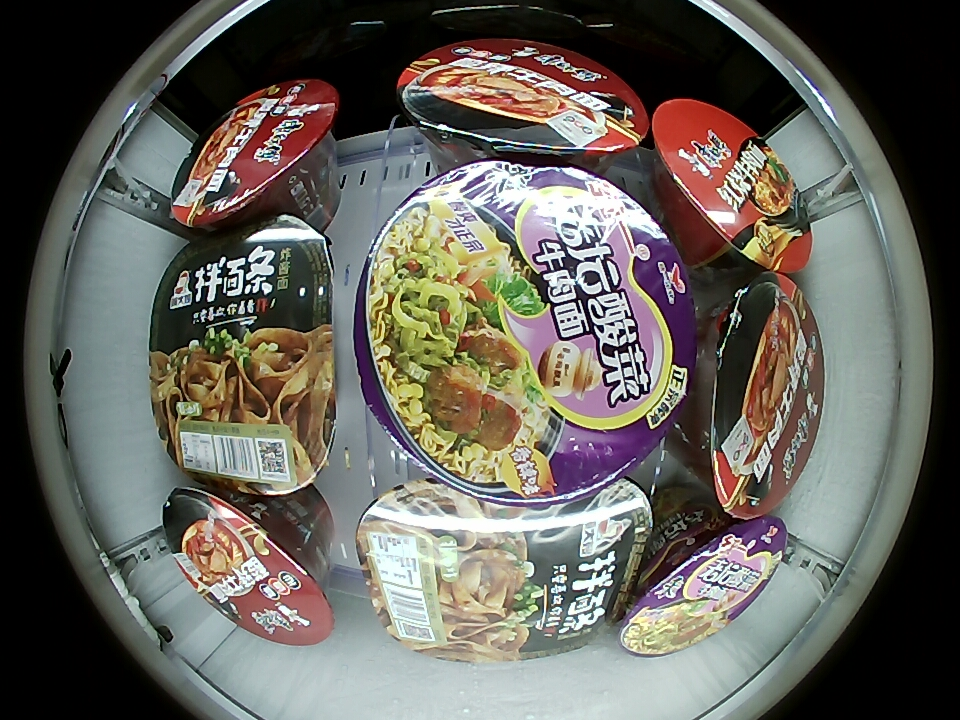gudasao: (354, 477, 654, 663), (147, 220, 336, 493)
hongshaoniurou: (650, 97, 812, 275)
laotansuancai: (351, 158, 698, 502), (616, 512, 788, 658)
suanlaniurou: (692, 275, 825, 516), (397, 38, 650, 164), (163, 489, 334, 646), (172, 79, 339, 227)
